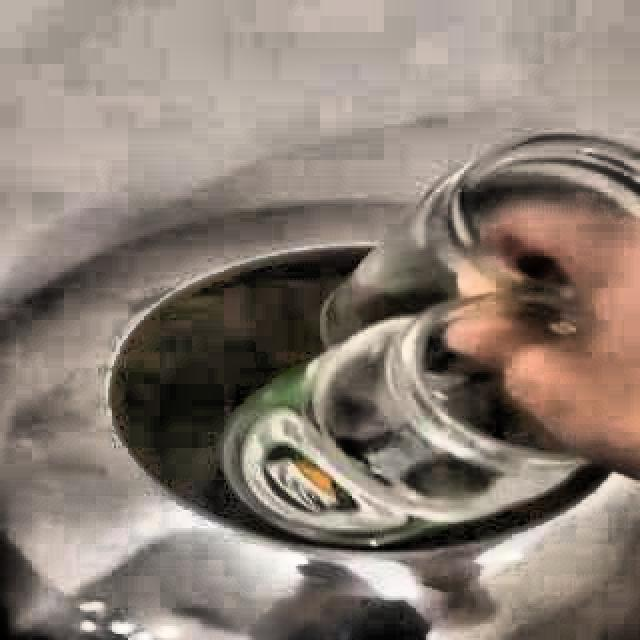glass: (221, 135, 640, 545)
